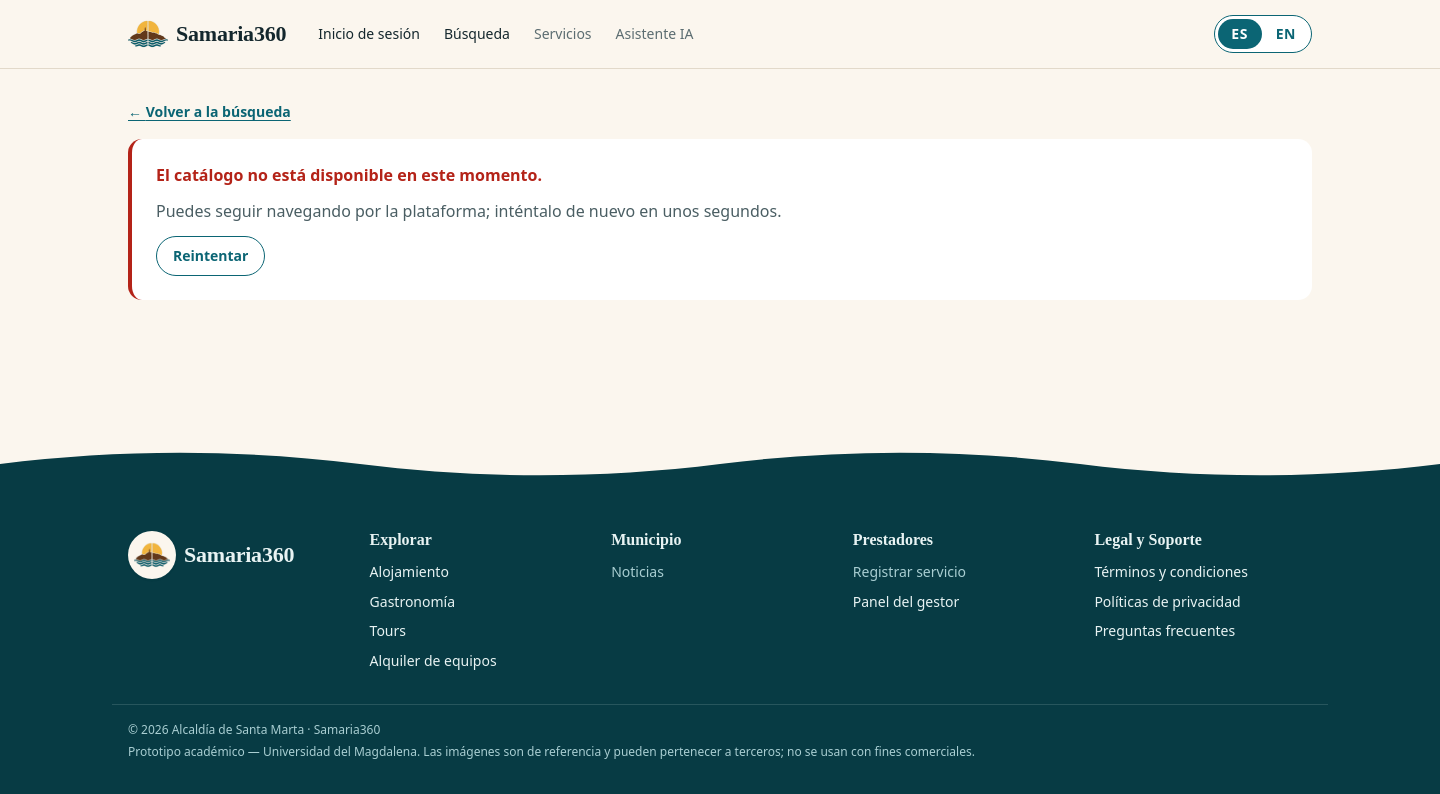
Scenario: Detalle de un servicio (WF-06) › con el catálogo caído (503) avisa y «Reintentar» vuelve a pedir el detalle
Expected: the message shows "El catálogo no está disponible en este momento.", x1=156 y1=164 x2=542 y2=186
Click the button "Reintentar" at (211,256), box x1=156 y1=236 x2=265 y2=276
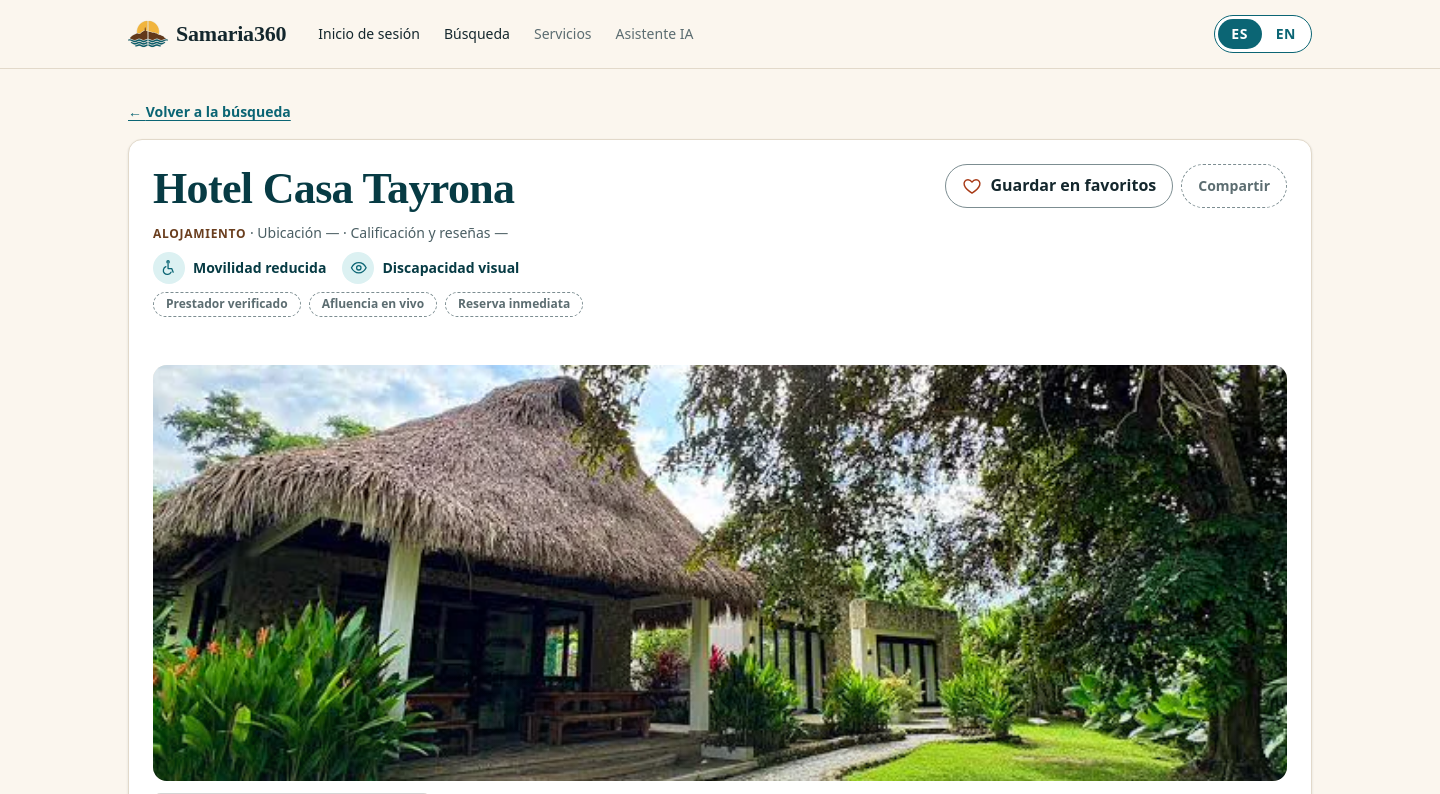
Expected: the heading "Hotel Casa Tayrona" is shown, x1=153 y1=164 x2=514 y2=213
